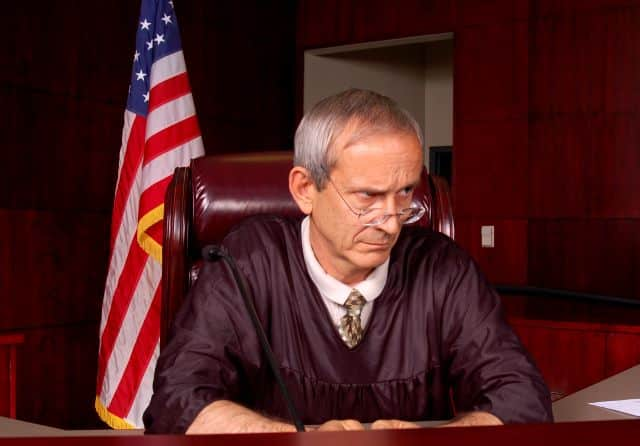person: (151, 96, 551, 435)
